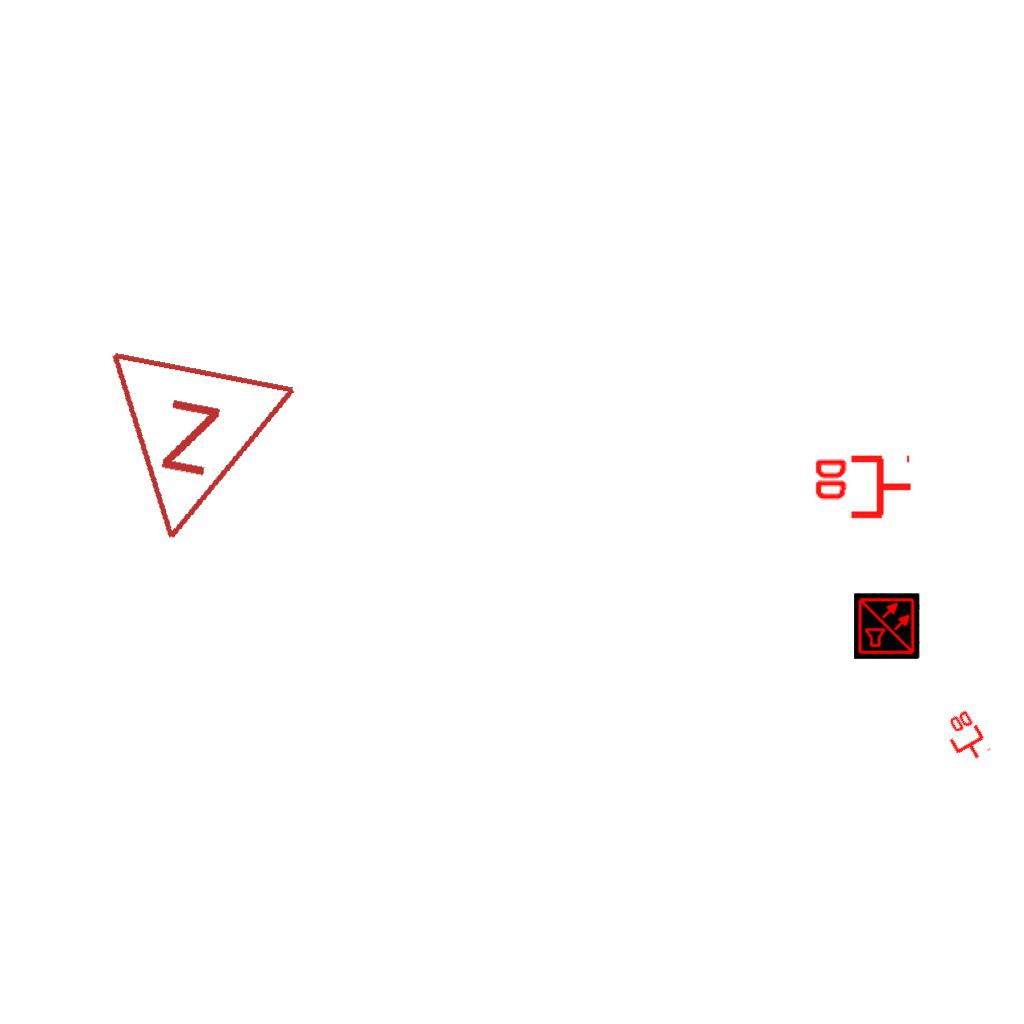Datenanschluss_zweifach: (811, 454, 914, 523), (937, 706, 993, 769)
OKW_Multisensormelder_(Kombination_optischer_Rauch-Kahlenmonoxid_Waerme-Melder): (854, 593, 920, 659)
Zimmersignalleuchte: (74, 337, 306, 571)
